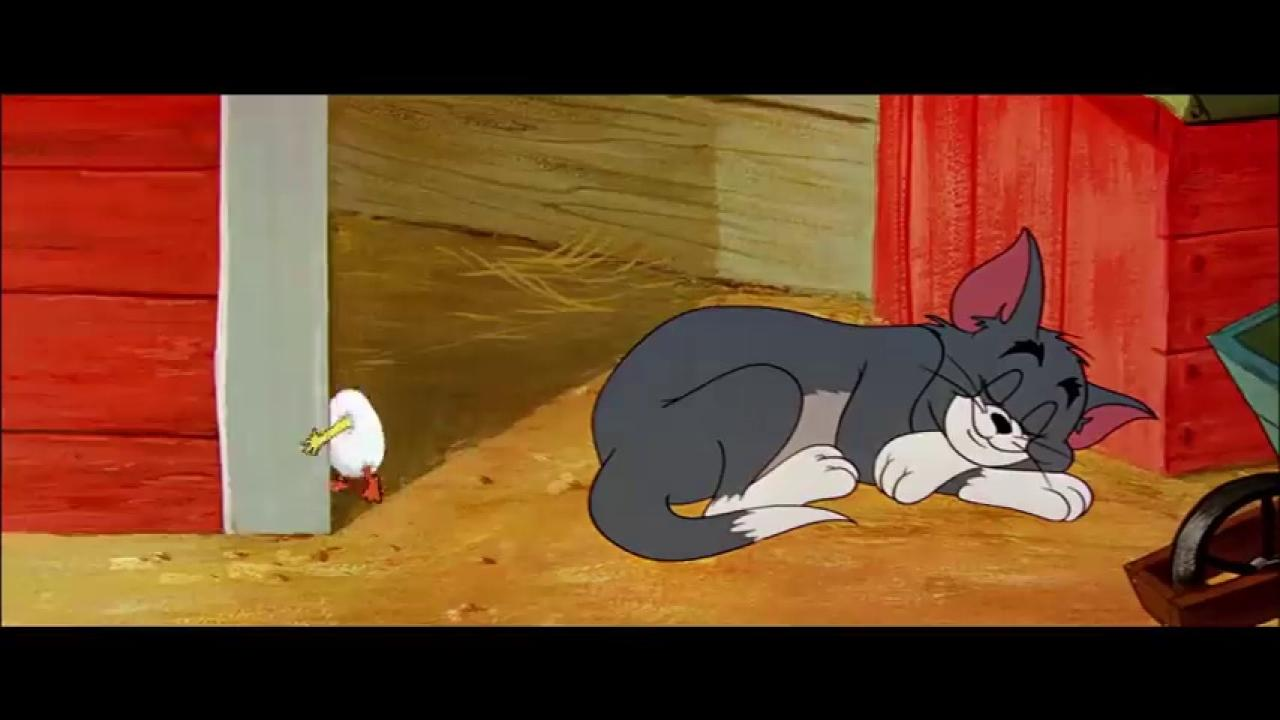Tom: (586, 225, 1163, 563)
